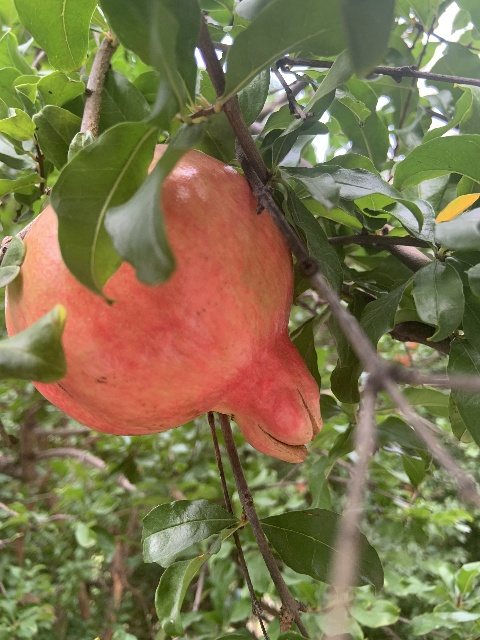ripe: (5, 141, 323, 461)
